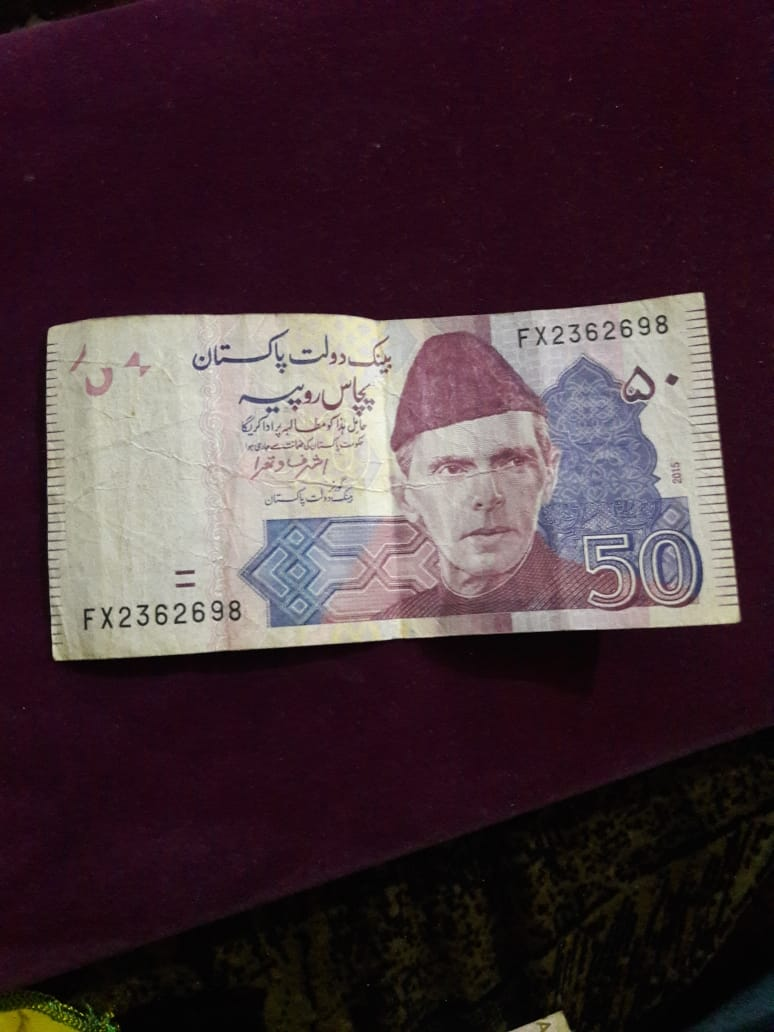50 rupee: (23, 310, 758, 683)
